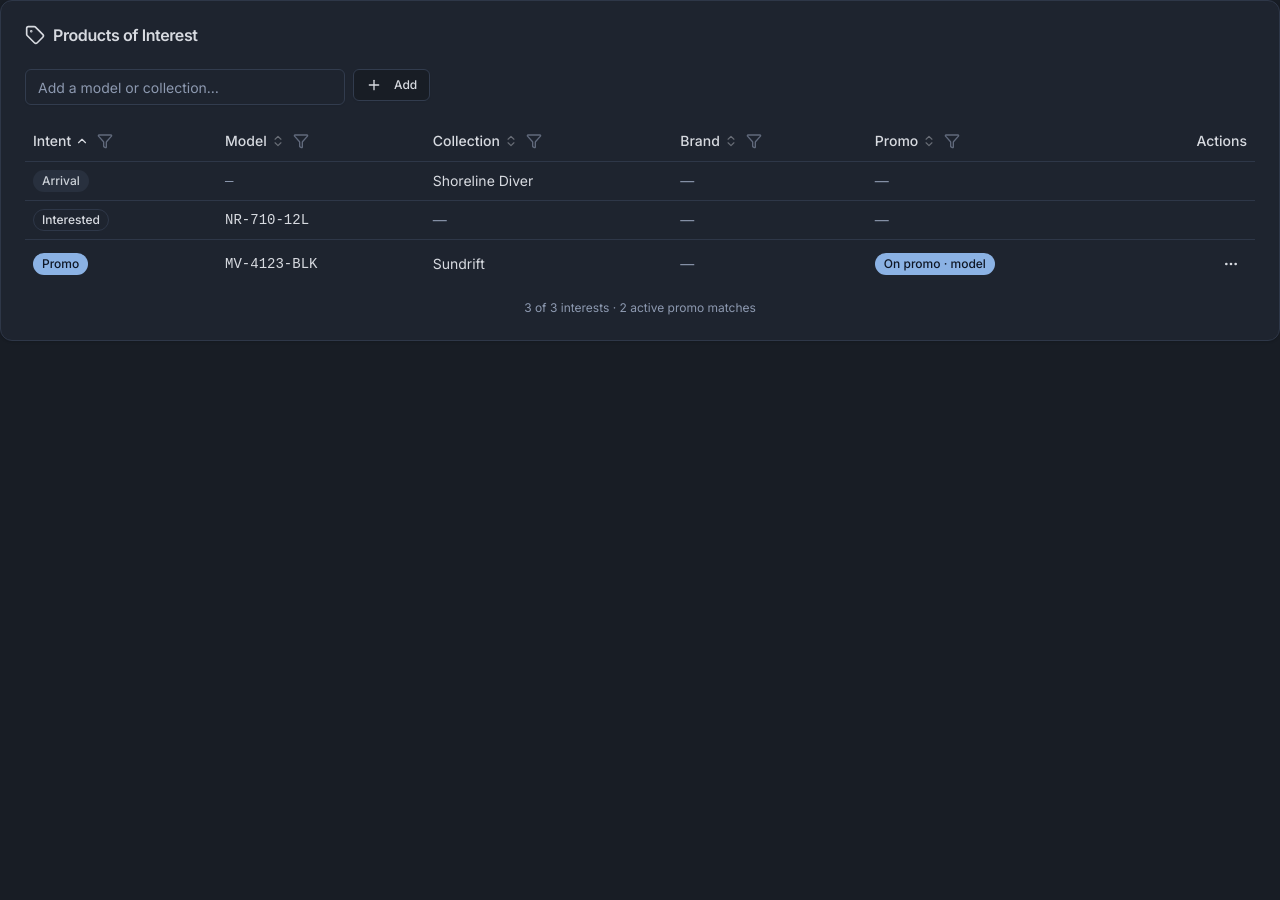
InterestsTab (unified table) › filters rows by intent via the funnel
Expected: the text "MV-4123-BLK" is shown, left=217, top=239, right=425, bottom=288
What coordinates should you click on to do the following:
click the button named "Filter Intent"
I would click on:
 (105, 141)
Its box is left=93, top=129, right=117, bottom=153.
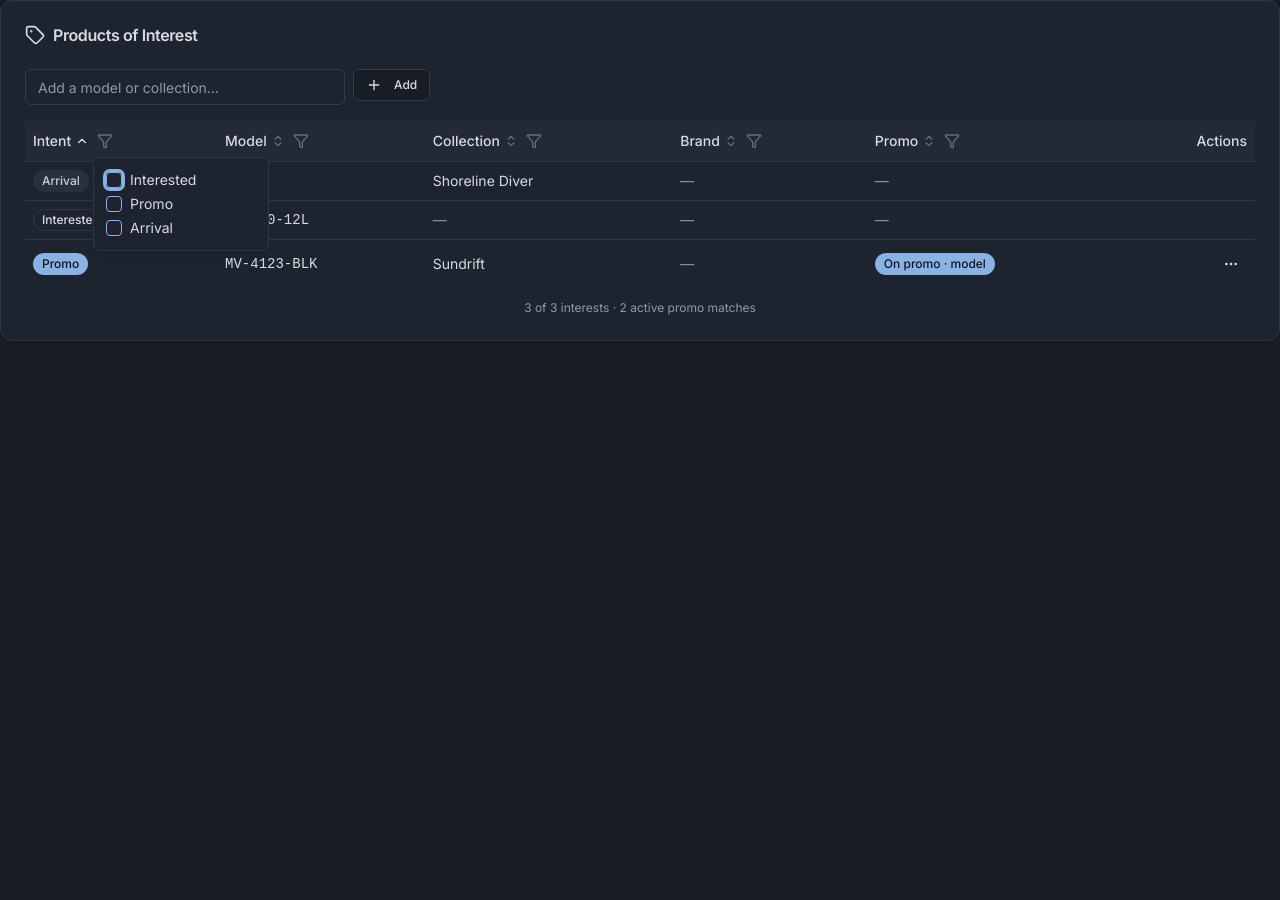
What coordinates should you click on to do the following:
click the 3rd checkbox named "Arrival"
I would click on:
 (114, 228)
Its box is left=106, top=220, right=122, bottom=236.
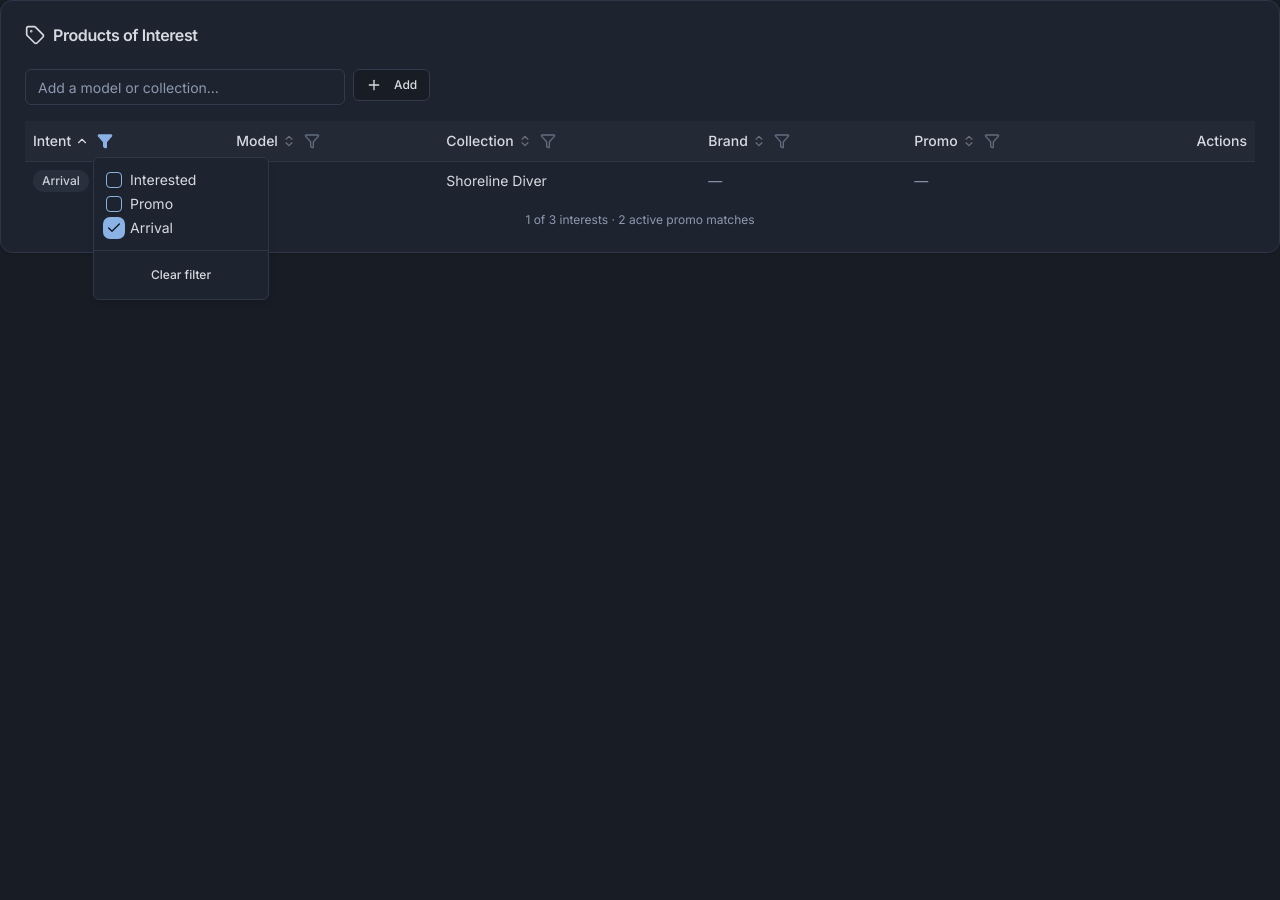
Expected: the text "Shoreline Diver" is shown, left=438, top=161, right=700, bottom=200
Result: the text "MV-4123-BLK" is gone
